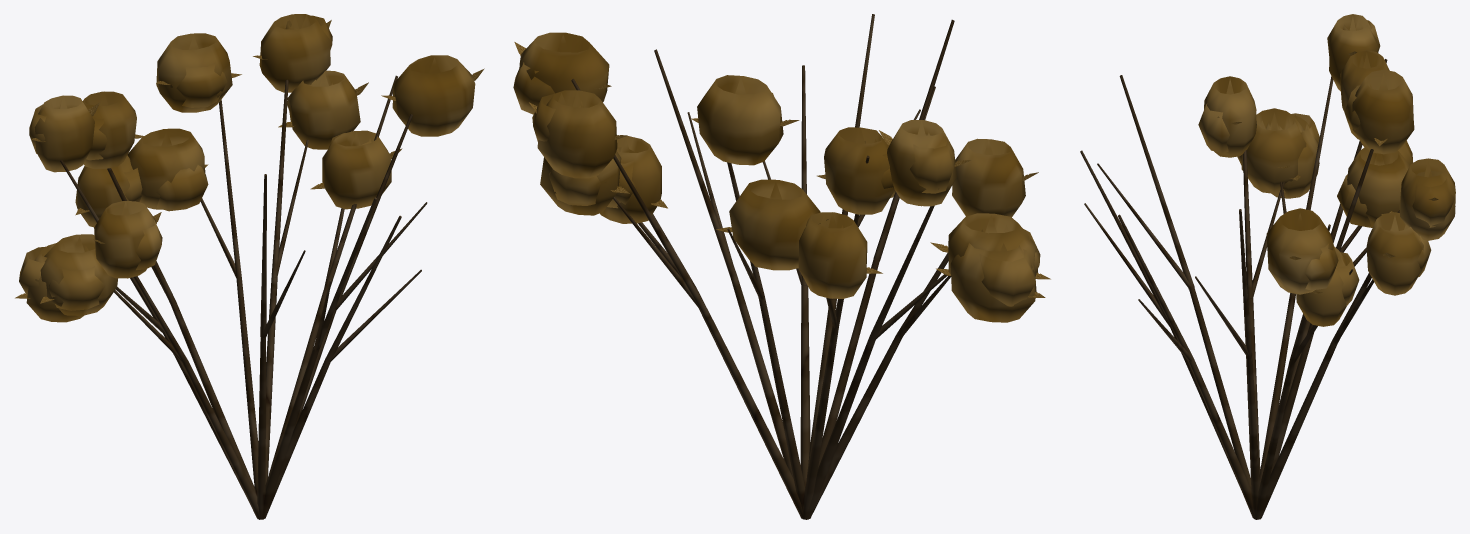
Rendered from filbert_dry01-lod0.glb.
3 renders of one model, left to right at view 1: azimuth 30°, elevation 25°; view 2: azimuth 150°, elevation 25°; view 3: azimuth 270°, elevation 25°, orthographic. The views are drawn at different scales.
Parts seen in each view (by area): view 1: TZ_filbert_shrub_Batch_00_LOD0, TZ_filbert_shrub_Batch_02_LOD0, TZ_filbert_shrub_Batch_01_LOD0; view 2: TZ_filbert_shrub_Batch_00_LOD0, TZ_filbert_shrub_Batch_02_LOD0, TZ_filbert_shrub_Batch_01_LOD0; view 3: TZ_filbert_shrub_Batch_00_LOD0, TZ_filbert_shrub_Batch_02_LOD0.
Boxes of the visible parts, left/top/right/bottom form: TZ_filbert_shrub_Batch_00_LOD0: left=19, top=14, right=475, bottom=322; TZ_filbert_shrub_Batch_02_LOD0: left=60, top=75, right=427, bottom=519; TZ_filbert_shrub_Batch_01_LOD0: left=15, top=20, right=484, bottom=303; TZ_filbert_shrub_Batch_00_LOD0: left=513, top=32, right=1040, bottom=322; TZ_filbert_shrub_Batch_02_LOD0: left=571, top=14, right=954, bottom=519; TZ_filbert_shrub_Batch_01_LOD0: left=514, top=42, right=1050, bottom=297; TZ_filbert_shrub_Batch_00_LOD0: left=1198, top=14, right=1455, bottom=326; TZ_filbert_shrub_Batch_02_LOD0: left=1080, top=59, right=1399, bottom=519.
Bounding box in the file's own units: 1.85 × 1.65 × 1.27.
Materials: 3 (3 with a texture image).
